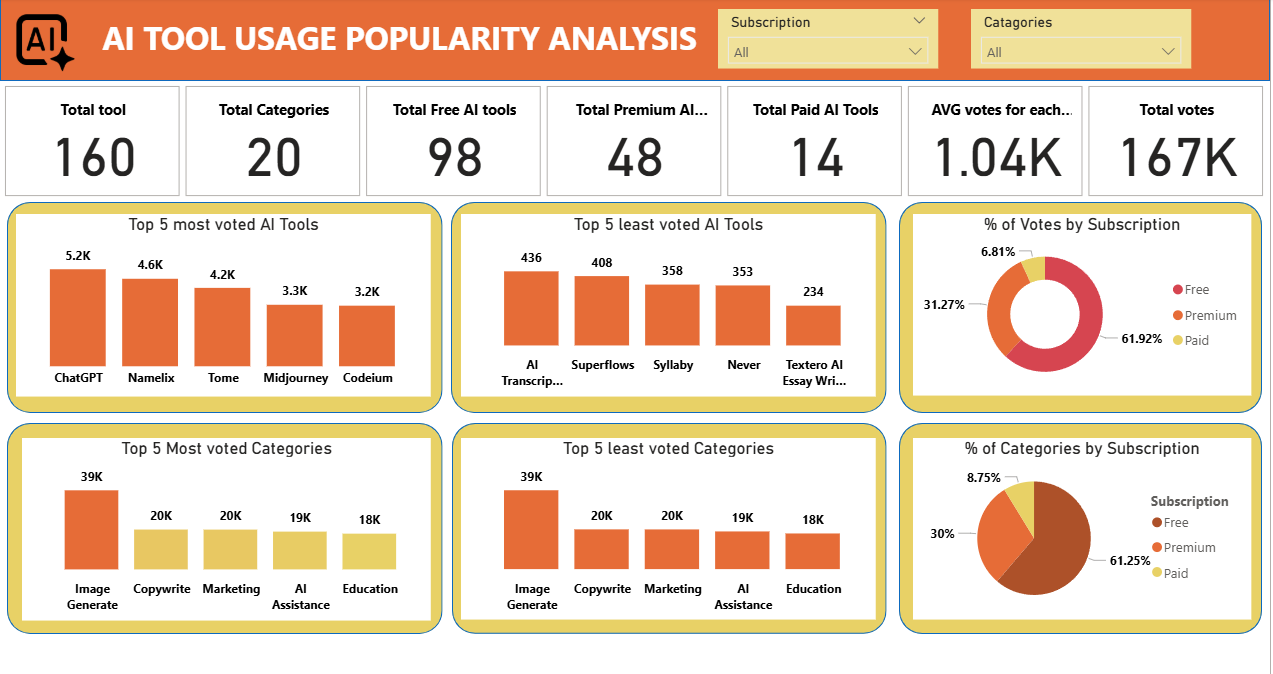

What the dashboard file says about the page in this screenshot:
{"tool":"powerbi","page":{"name":"Page 1","canvas":[1280,720],"ordinal":0},"visuals":[{"type":"cardVisual","fields":{"Data":["_Measure.Total tool","_Measure.Total Categories","_Measure.No of Free AI tools","_Measure.Total premium Tools","_Measure.Total Paid AI Tools","_Measure.AVG votes for each tools","_Measure.Total votes"]},"box":[0,83.7,1280,122],"z":0},{"type":"shape","box":[7,205.6,439.1,212.6],"z":1000},{"type":"shape","box":[0,0,1280,83.7],"z":2000},{"type":"columnChart","title":"Top 5 most voted AI Tools","fields":{"Category":["Sheet1.Name "],"Y":["Sum(Sheet1.Votes )"]},"box":[16.3,217.2,418.1,183.5],"z":3000},{"type":"shape","box":[454.2,205.6,439.1,212.6],"z":4000},{"type":"columnChart","title":"Top 5 least voted AI Tools","fields":{"Category":["Sheet1.Name "],"Y":["Sum(Sheet1.Votes )"]},"box":[464.6,217.2,418.1,183.5],"z":5000},{"type":"shape","box":[7,428.6,439.1,212.6],"z":6000},{"type":"columnChart","title":"Top 5 Most voted  Categories","fields":{"Y":["Sum(Sheet1.Votes )"],"Category":["Sheet1.Catagories"]},"box":[22.1,443.7,412.3,183.5],"z":7000},{"type":"shape","box":[455.6,428.3,438.4,212.7],"z":8000},{"type":"columnChart","title":"Top 5 least voted  Categories","fields":{"Y":["Sum(Sheet1.Votes )"],"Category":["Sheet1.Catagories"]},"box":[464.6,443.5,418.3,183.4],"z":9000},{"type":"shape","box":[906.1,205.6,365.9,212.7],"z":10000},{"type":"shape","box":[906.1,428.3,365.9,212.7],"z":11000},{"type":"donutChart","title":"% of Votes  by Subscription","fields":{"Category":["Sheet1.Subscription"],"Y":["Sum(Sheet1.Votes )"]},"box":[920.2,217.7,340.7,183.4],"z":12000},{"type":"pieChart","title":"% of Categories by Subscription","fields":{"Category":["Sheet1.Subscription"],"Y":["CountNonNull(Sheet1.Catagories)"]},"box":[920.2,443.5,340.7,183.4],"z":13000},{"type":"textbox","box":[93.7,12.1,617.8,59.5],"z":14000},{"type":"image","box":[0,0,84.7,83.7],"z":14001},{"type":"slicer","fields":{"Values":["Sheet1.Subscription"]},"box":[723.7,11.1,221.7,60.5],"z":14002},{"type":"slicer","fields":{"Values":["Sheet1.Catagories"]},"box":[978.6,11.1,221.7,60.5],"z":14003}]}

Visuals, with their boxes on the page's 1280x720 design canvas (x1, y1, x2, y2). These are canvas units, not pixel positions in the 1273x674 screenshot, which may show the page scaled, cropped or inside an application window:
cardVisual - _Measure.Total tool x _Measure.Total Categories: rect(0, 84, 1280, 206)
shape: rect(7, 206, 446, 418)
shape: rect(0, 0, 1280, 84)
"Top 5 most voted AI Tools" columnChart: rect(16, 217, 434, 401)
shape: rect(454, 206, 893, 418)
"Top 5 least voted AI Tools" columnChart: rect(465, 217, 883, 401)
shape: rect(7, 429, 446, 641)
"Top 5 Most voted  Categories" columnChart: rect(22, 444, 434, 627)
shape: rect(456, 428, 894, 641)
"Top 5 least voted  Categories" columnChart: rect(465, 444, 883, 627)
shape: rect(906, 206, 1272, 418)
shape: rect(906, 428, 1272, 641)
"% of Votes  by Subscription" donutChart: rect(920, 218, 1261, 401)
"% of Categories by Subscription" pieChart: rect(920, 444, 1261, 627)
textbox: rect(94, 12, 712, 72)
image: rect(0, 0, 85, 84)
slicer - Sheet1.Subscription: rect(724, 11, 945, 72)
slicer - Sheet1.Catagories: rect(979, 11, 1200, 72)
